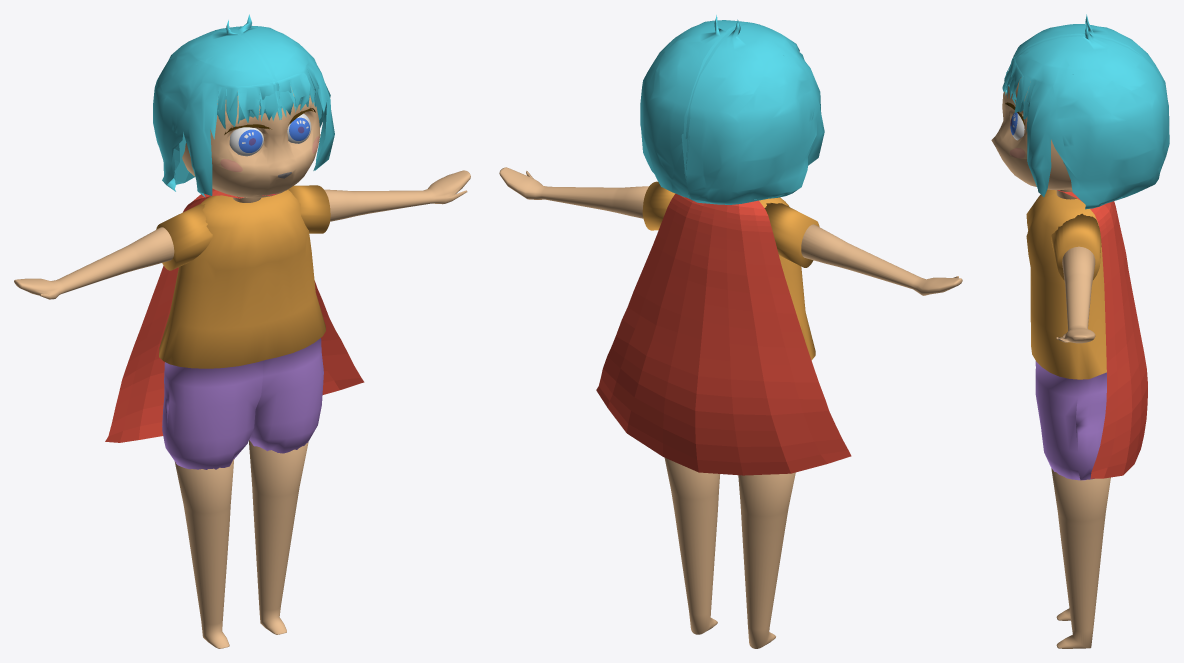
Rendered from Player0604.fbx.
The picture shows the model from 3 angles, left to right: view 1: azimuth 30°, elevation 25°; view 2: azimuth 150°, elevation 25°; view 3: azimuth 270°, elevation 25°; orthographic projection.
Parts seen in each view (by area): view 1: Body, Hear, RReg, mant, Head, RArm, Eye; view 2: mant, Hear, RReg, RArm, Body; view 3: Hear, Body, mant, RReg, RArm, Head, Eye.
Boxes of the visible parts, <box> form: Body: <box>156,185,330,469</box>; Hear: <box>153,14,334,197</box>; RReg: <box>174,440,308,648</box>; mant: <box>105,188,364,442</box>; Head: <box>182,90,320,197</box>; RArm: <box>14,170,470,299</box>; Eye: <box>229,113,311,156</box>; mant: <box>596,193,851,475</box>; Hear: <box>640,15,824,204</box>; RReg: <box>664,458,795,648</box>; RArm: <box>499,167,962,295</box>; Body: <box>642,181,819,360</box>; Hear: <box>1002,14,1169,209</box>; Body: <box>1026,189,1106,480</box>; mant: <box>1057,190,1147,478</box>; RReg: <box>1051,468,1110,648</box>; RArm: <box>1056,246,1095,343</box>; Head: <box>991,77,1071,190</box>; Eye: <box>1010,112,1024,140</box>.
Bounding box in the file's own units: 332 × 431 × 114.
